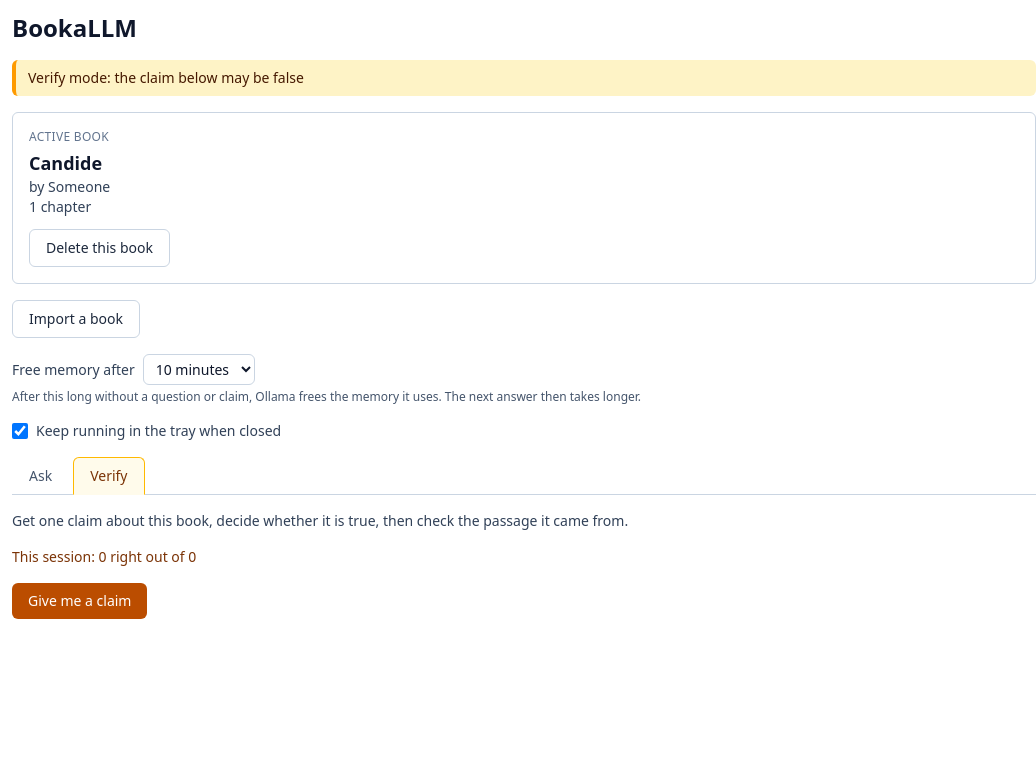
Test case: Verify session › says getting ready while waiting, and stops
Click the button "Give me a claim" at (80, 601), box [12,583,148,619]
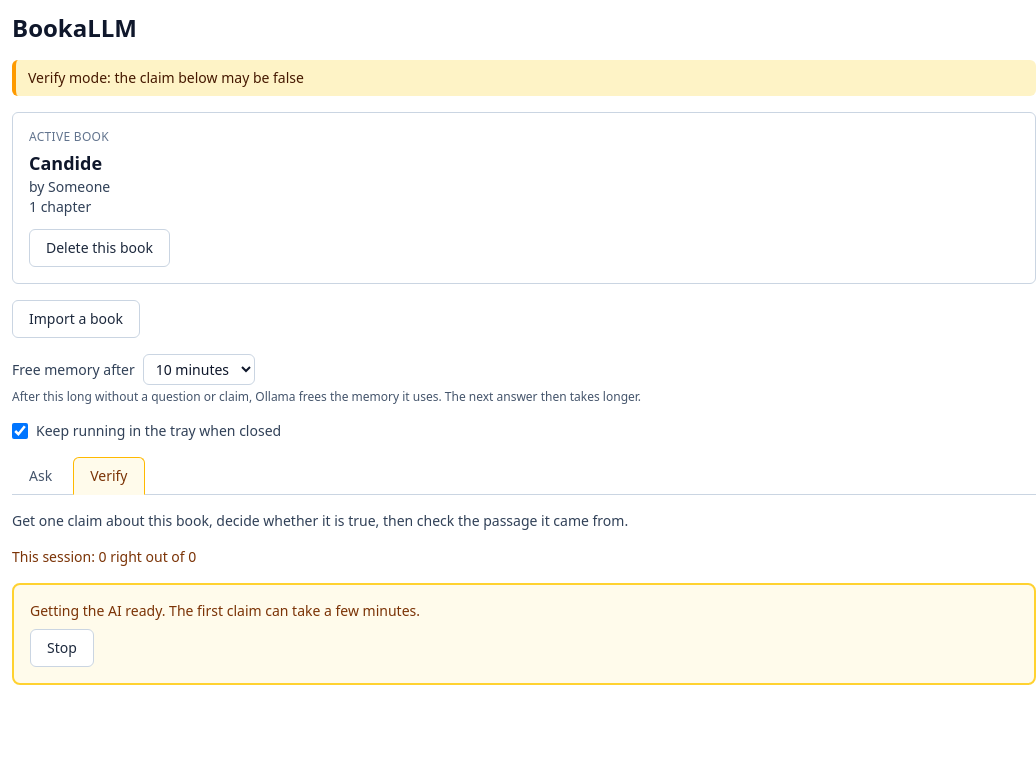
expect the text "Getting the AI ready. The first claim can take a few minutes." is shown: met, box [30,601,420,620]
Click the button "Stop" at (62, 648), box [30,629,94,667]
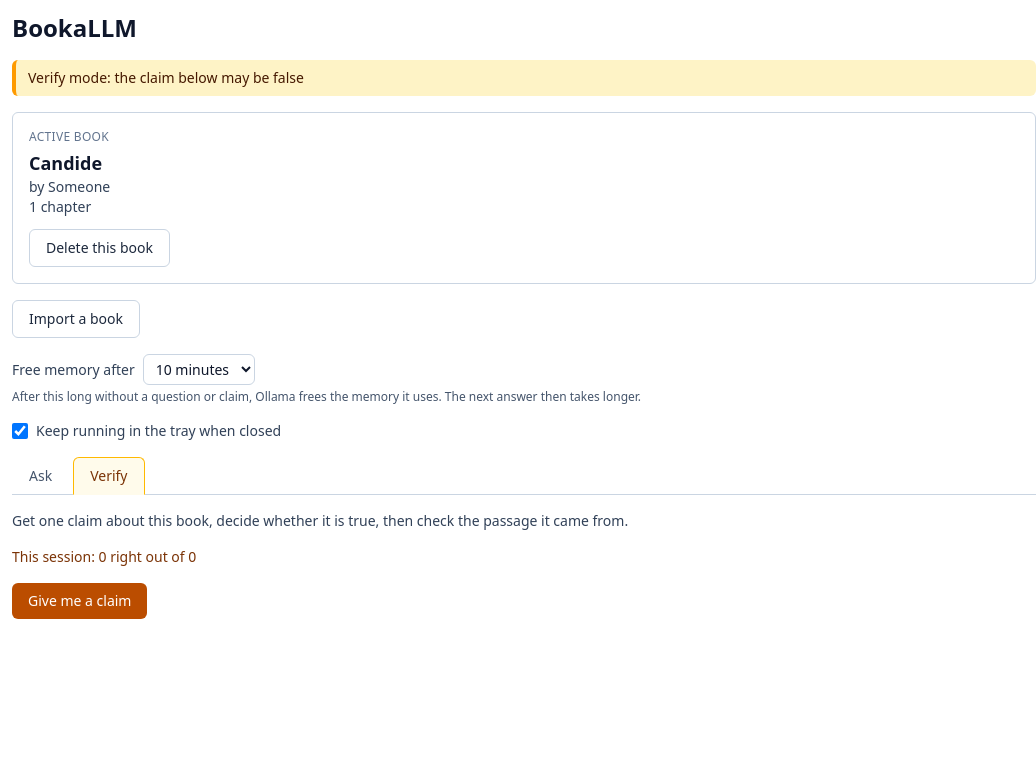
expect the button "Give me a claim" is shown: met, box [12,583,148,619]
